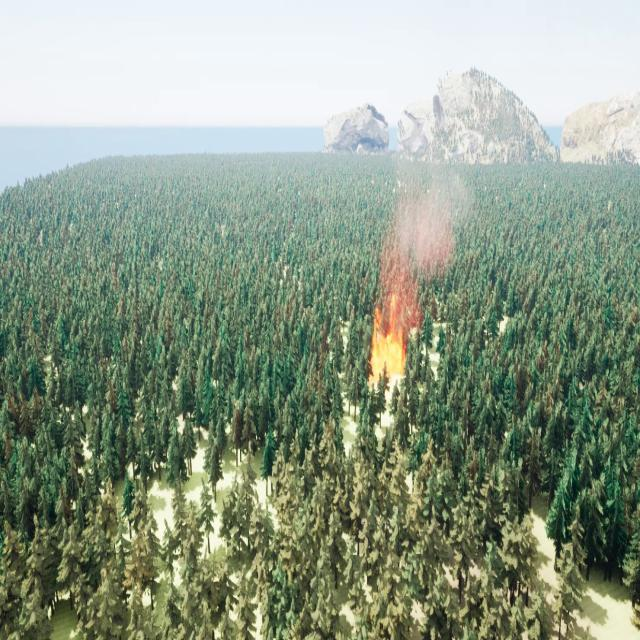fire: (372, 321, 404, 372)
smoke: (377, 142, 466, 317)
